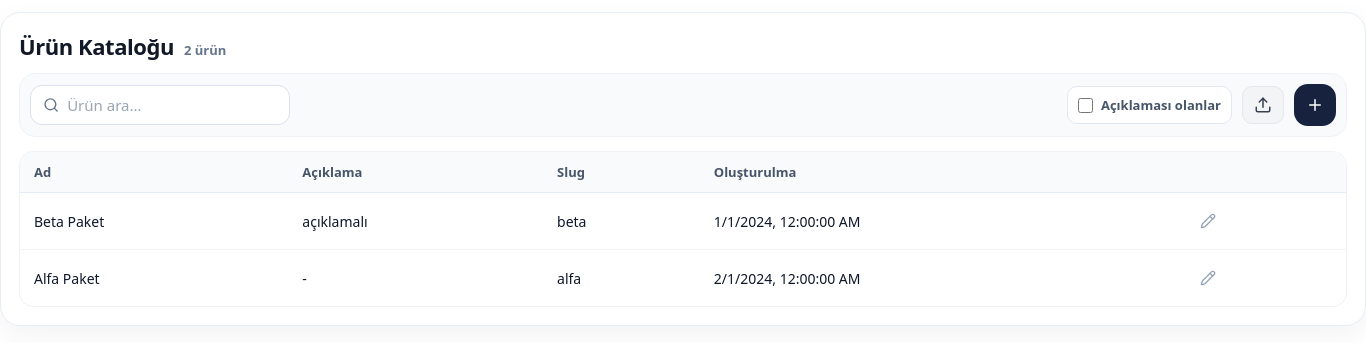
ProductList › filters by search term (name or description)
expect the text "Beta Paket" is shown: met, box 20,193 -> 288,250
Type "alfa" into the field with placeholder "Ürün ara..." at (172, 105), box 67,86 -> 277,124
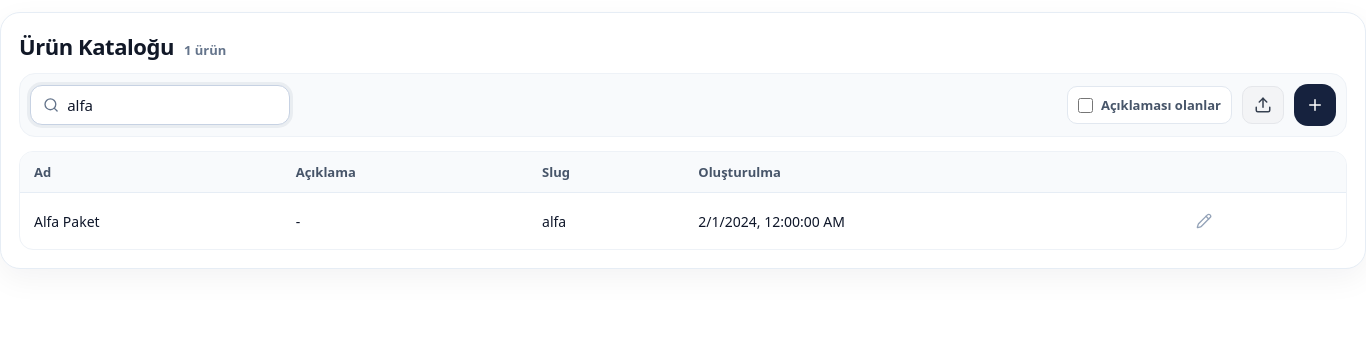
expect the text "Alfa Paket" is shown: met, box 20,193 -> 282,249
expect the text "Beta Paket" is gone: met
